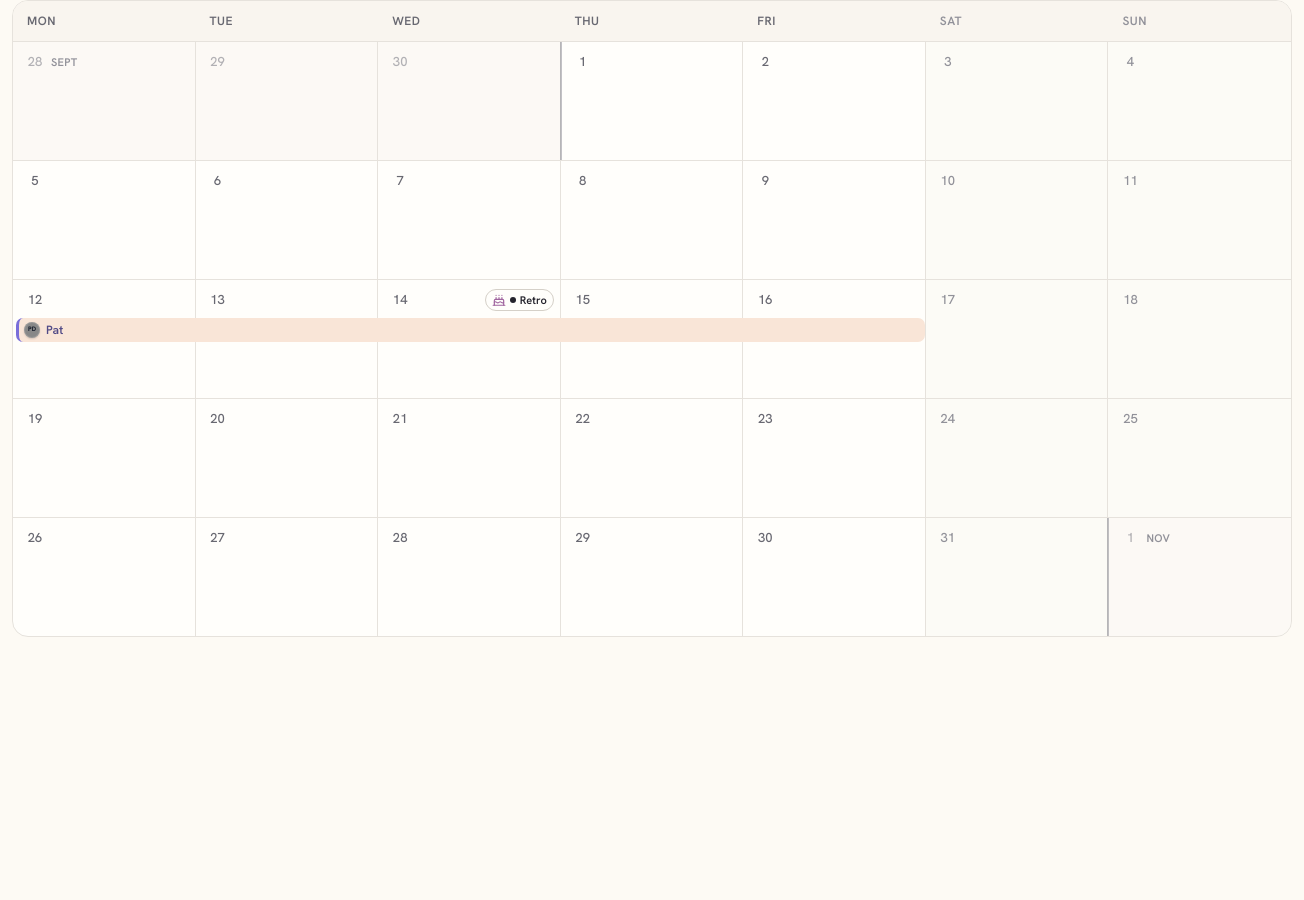
DayContextMenu › leaves New group event out where nobody may create
Right-click the button with aria-label "Pat Doe" at [32, 330], box [16,318,925,342]
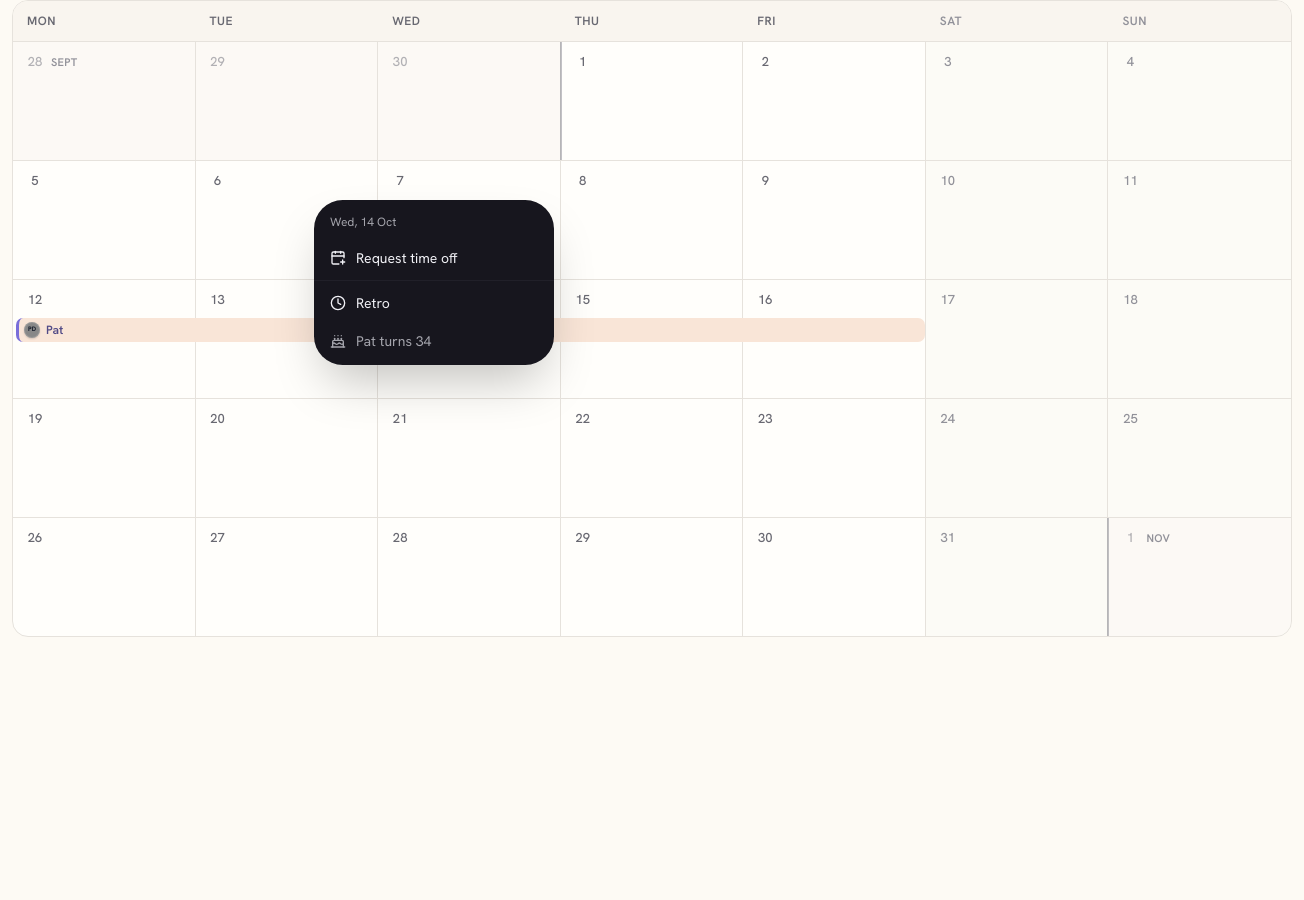
expect the menu item "Request time off" is shown: met, box [330,249,457,267]
